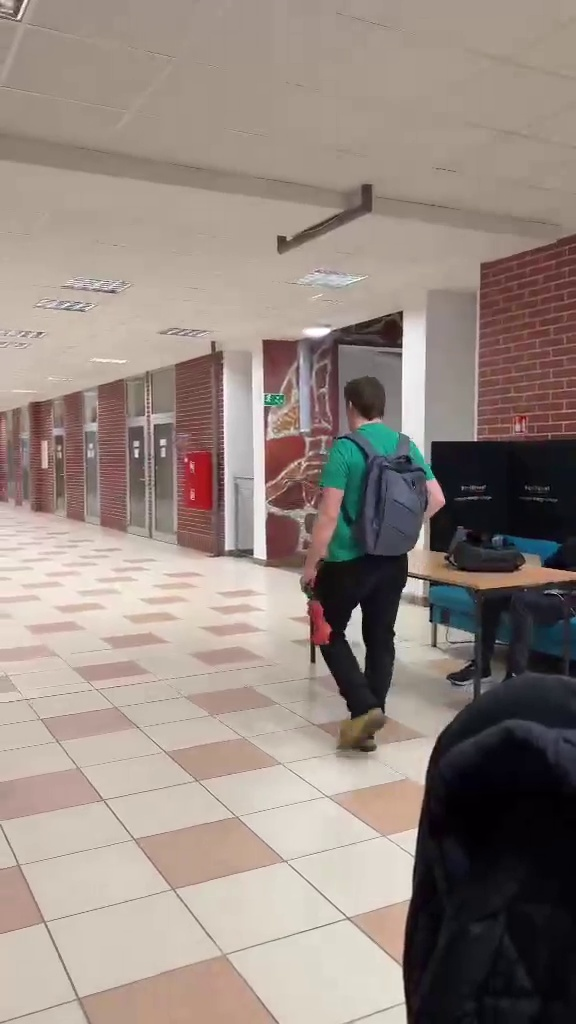no vest: (298, 374, 447, 751)
